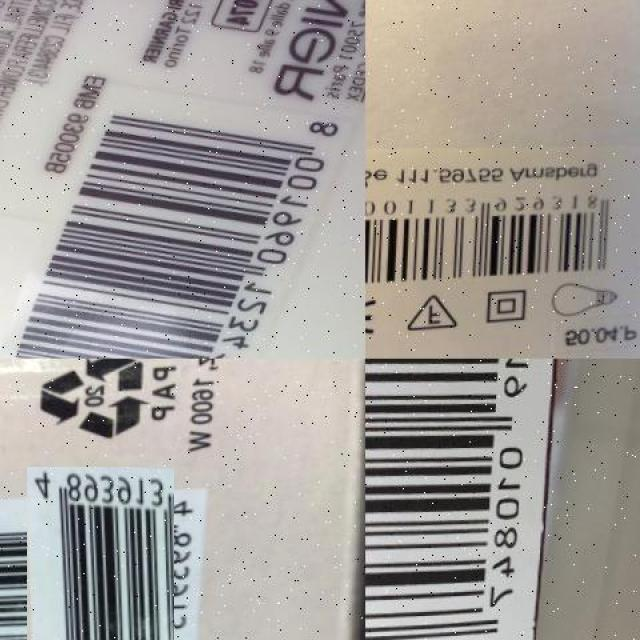Barcode: (16, 72, 353, 359), (366, 359, 544, 640), (365, 181, 635, 291), (14, 480, 187, 640)
